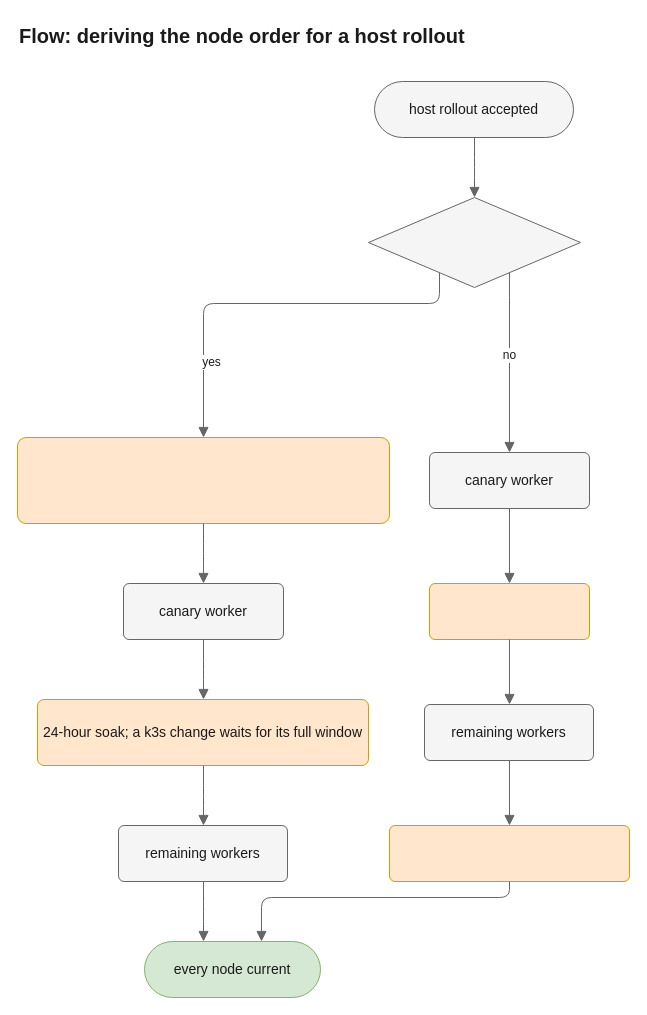
The diagram is 647 pixels wide and 1015 high, and some of its shapes have lost their labels. The centre of each missing label's shape, as x and y in pixels:
24-hour soak: the point at 509,611
control plane, in its window: the point at 509,853
control plane, in its window, after a snapshot and approval: the point at 203,480
k3s version changes?: the point at 474,242
